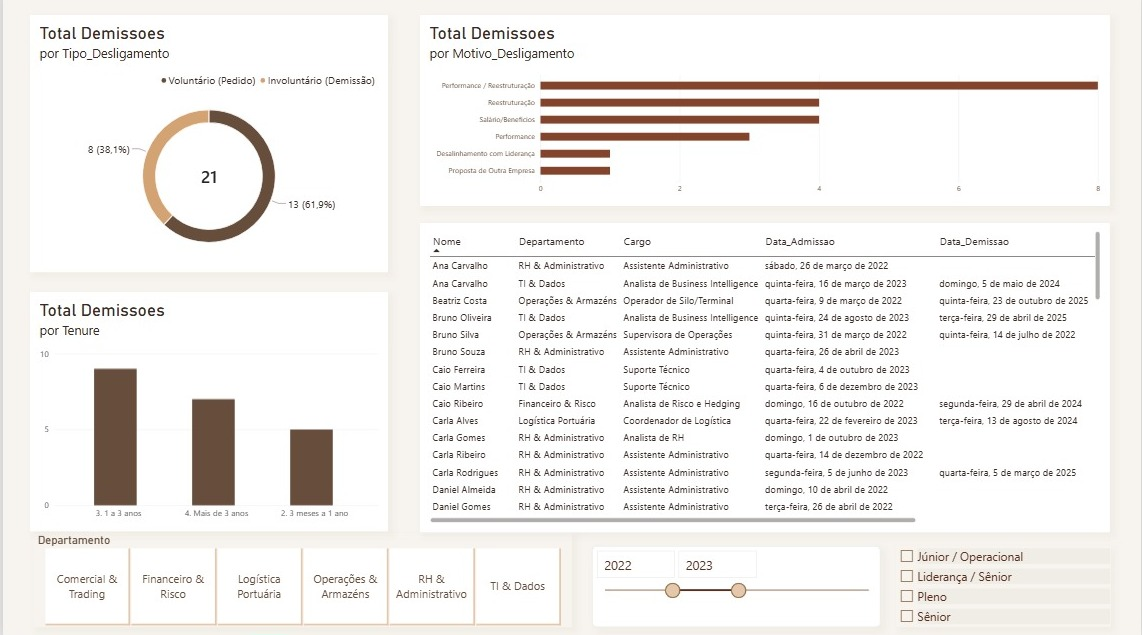

What the dashboard file says about the page in this screenshot:
{"tool":"powerbi","page":{"name":"Diagnóstico de Retenção","canvas":[1920,1080],"ordinal":1},"visuals":[{"type":"donutChart","fields":{"Category":["Dados.Tipo_Desligamento"],"Y":["_Medidas.Total Demissoes"]},"box":[46,34,604,434],"z":0},{"type":"barChart","fields":{"Category":["Dados.Motivo_Desligamento"],"Y":["_Medidas.Total Demissoes"]},"box":[704,34,1164,322],"z":1000},{"type":"clusteredColumnChart","fields":{"Category":["Dados.Tenure"],"Y":["_Medidas.Total Demissoes"]},"box":[46,502,604,404],"z":2000},{"type":"tableEx","fields":{"Values":["Dados.Nome","Dados.Departamento","Dados.Cargo","Dados.Data_Admissao","Dados.Data_Demissao","Dados.Tipo_Desligamento","Dados.Motivo_Desligamento"]},"box":[704,384,1164,522],"z":3000},{"type":"slicer","fields":{"Values":["Dados.Departamento"]},"box":[50,908.3,910,158.3],"z":4000},{"type":"slicer","fields":{"Values":["dCalendario.Ano"]},"box":[993.3,930,486.7,136.7],"z":5000},{"type":"slicer","fields":{"Values":["Dados.Nivel"]},"box":[1506.7,930,361.7,136.7],"z":6000}]}

Visuals, with their boxes in screenshot pixels (x1, y1, x2, y2), scaled from the page's 1920x1080 canvas onto the 1142x635 screenshot:
donutChart - Dados.Tipo_Desligamento x _Medidas.Total Demissoes: bbox(27, 20, 387, 275)
barChart - Dados.Motivo_Desligamento x _Medidas.Total Demissoes: bbox(419, 20, 1111, 209)
clusteredColumnChart - Dados.Tenure x _Medidas.Total Demissoes: bbox(27, 295, 387, 533)
tableEx - Dados.Nome x Dados.Departamento: bbox(419, 226, 1111, 533)
slicer - Dados.Departamento: bbox(30, 534, 571, 627)
slicer - dCalendario.Ano: bbox(591, 547, 880, 627)
slicer - Dados.Nivel: bbox(896, 547, 1111, 627)
